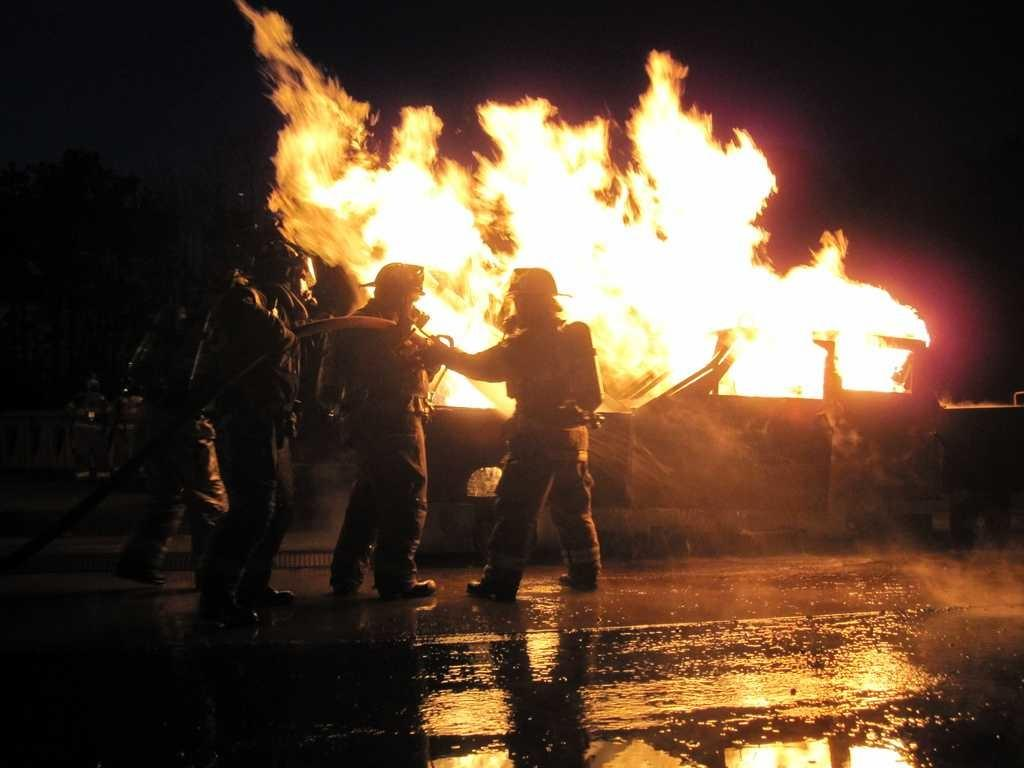fire: (640, 100, 760, 364), (460, 122, 622, 280), (280, 138, 442, 258), (768, 274, 896, 390)
